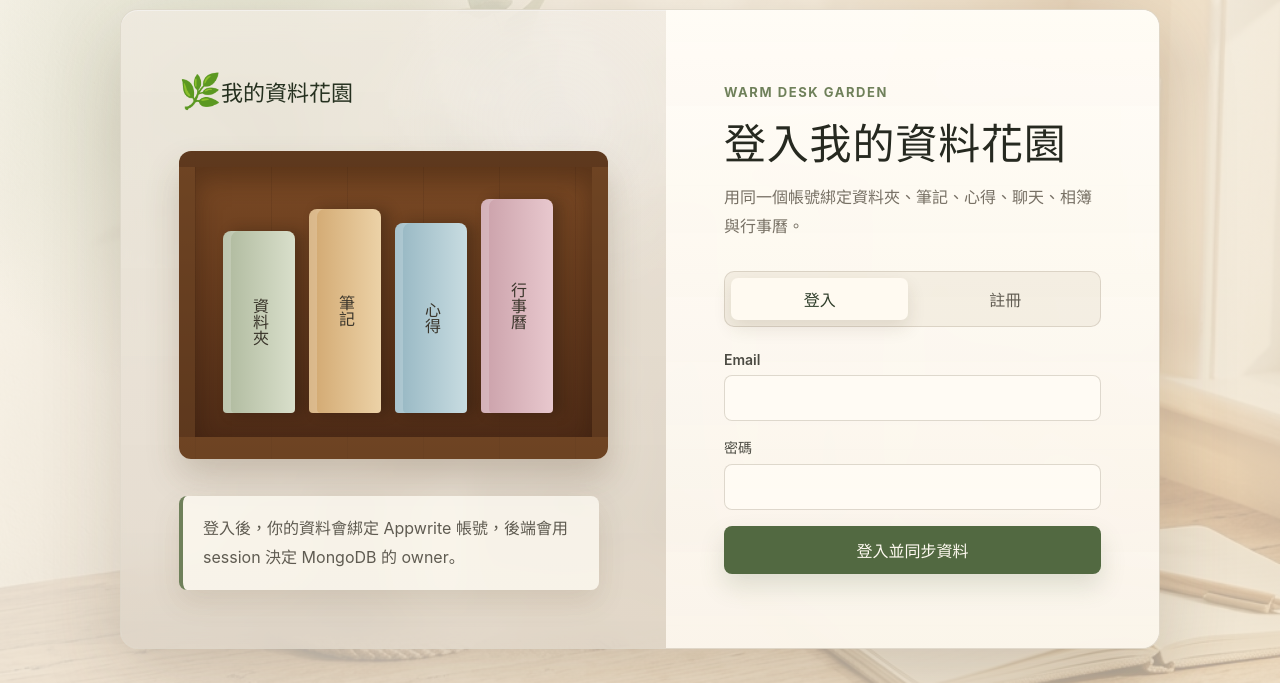
Warm Desk Garden app shell › signs in with Appwrite and signs out back to the auth entrance
This screenshot has width=1280, height=683.
Type "garden@example.com" into the field labelled "Email". click: point(912, 398)
box: [724,375,1101,421]
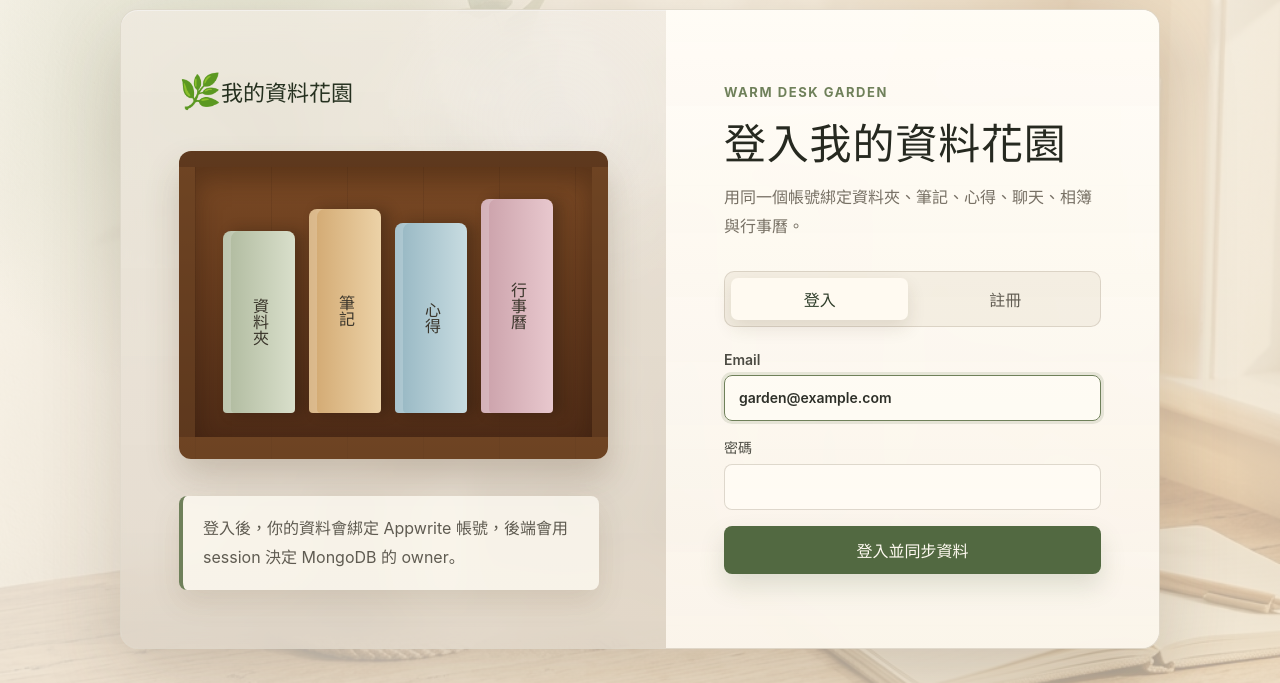
Type "password123" into the password field labelled "密碼". click: point(912, 487)
box: [724,464,1101,510]
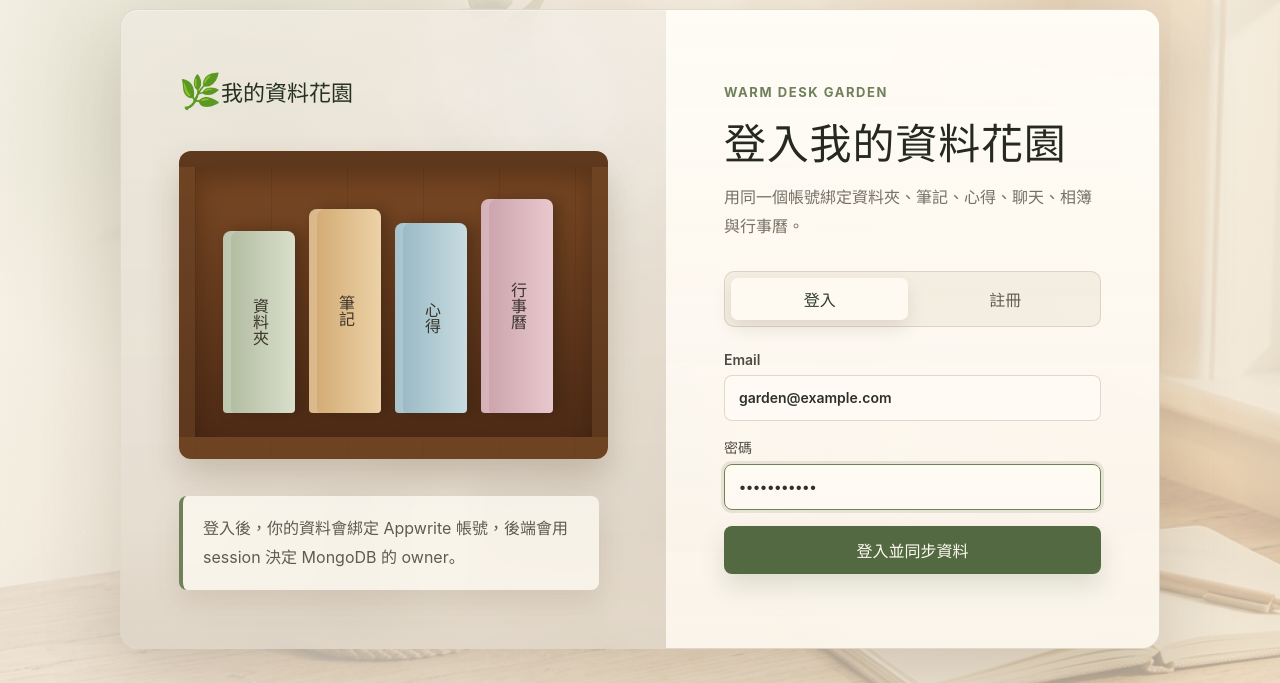
Click the button "登入並同步資料". click: point(912, 550)
box: [724,526,1101,574]
(page scrolled)
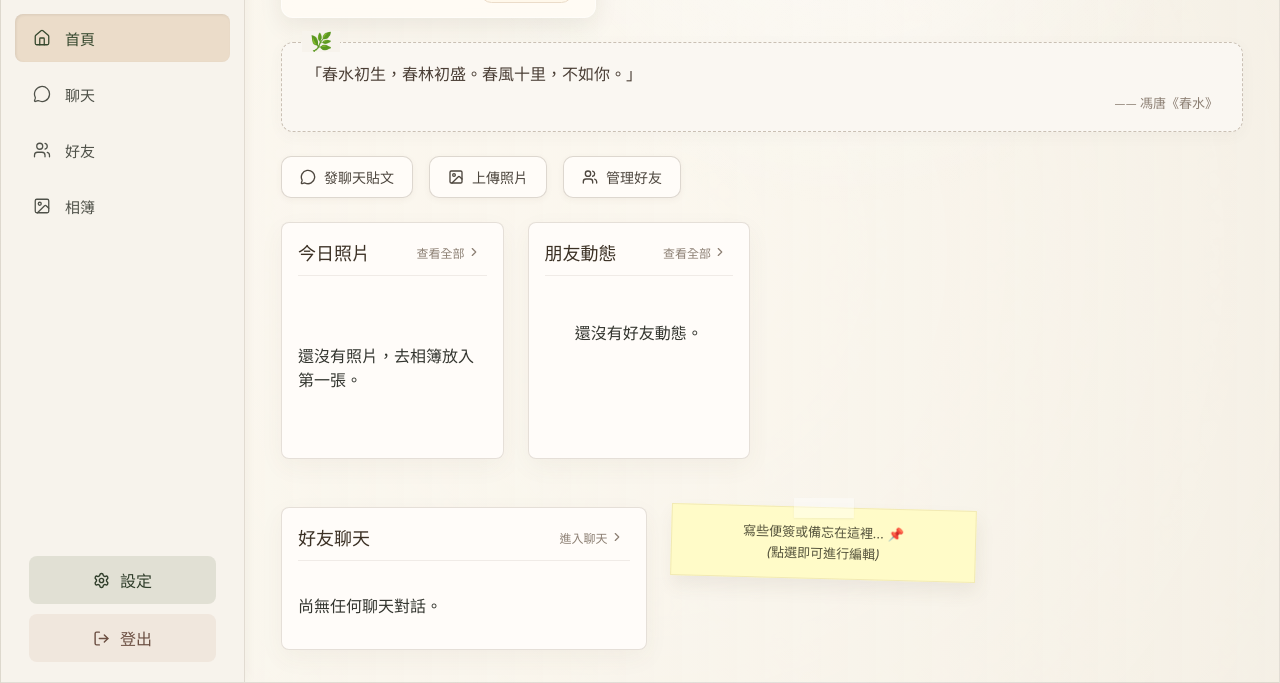
Click the button "登出". click: point(122, 638)
box: [29,614,216,662]
(page scrolled)
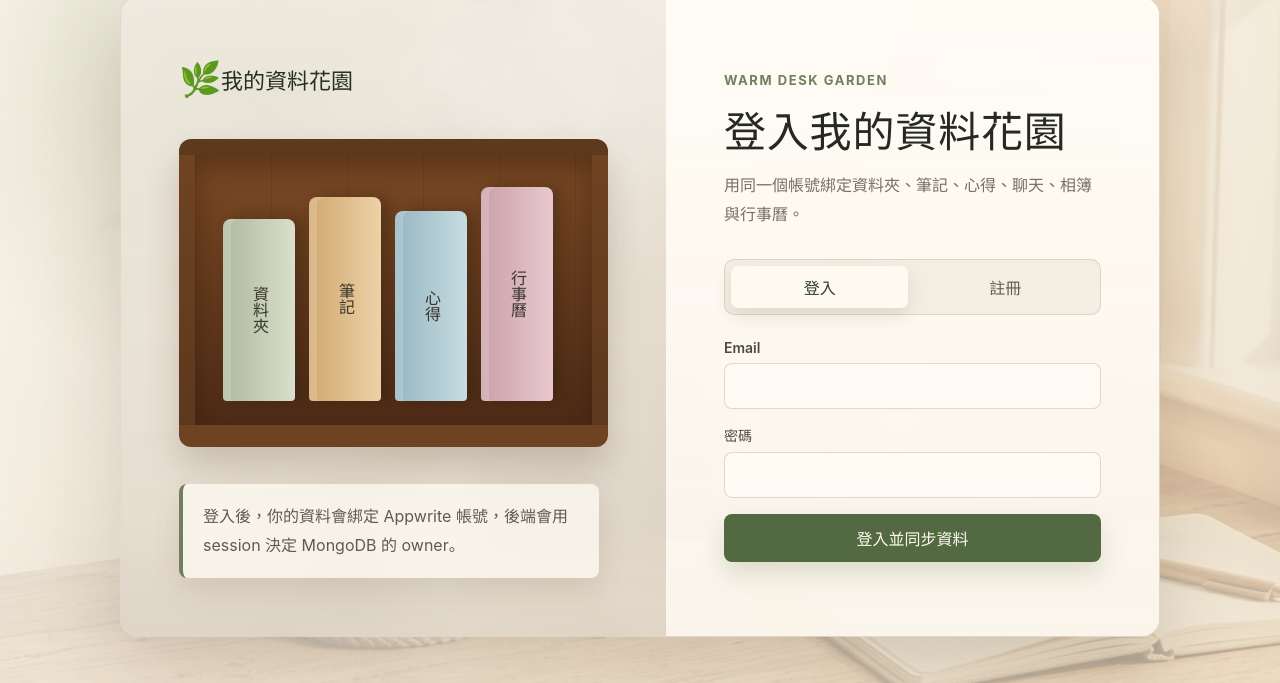
Expected: the heading "登入我的資料花園" is shown, [724,98,1101,159]
